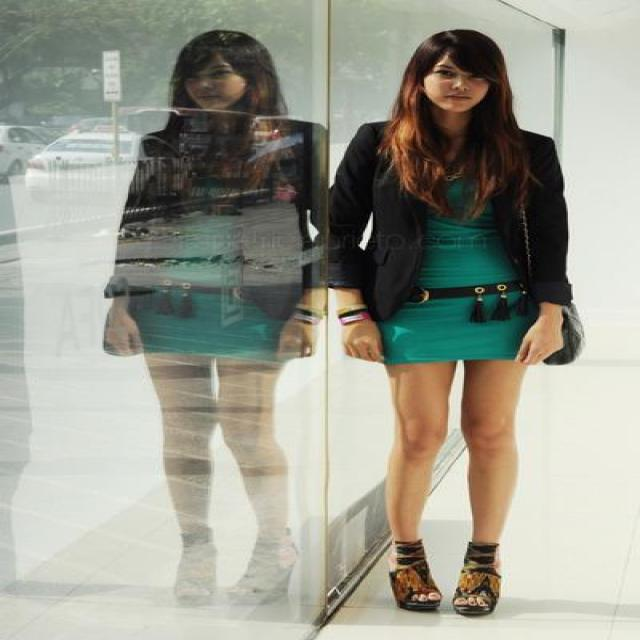bag: (542, 320, 581, 364)
dress: (371, 168, 539, 364)
jacket: (330, 123, 571, 319)
shoe: (390, 540, 500, 616)
